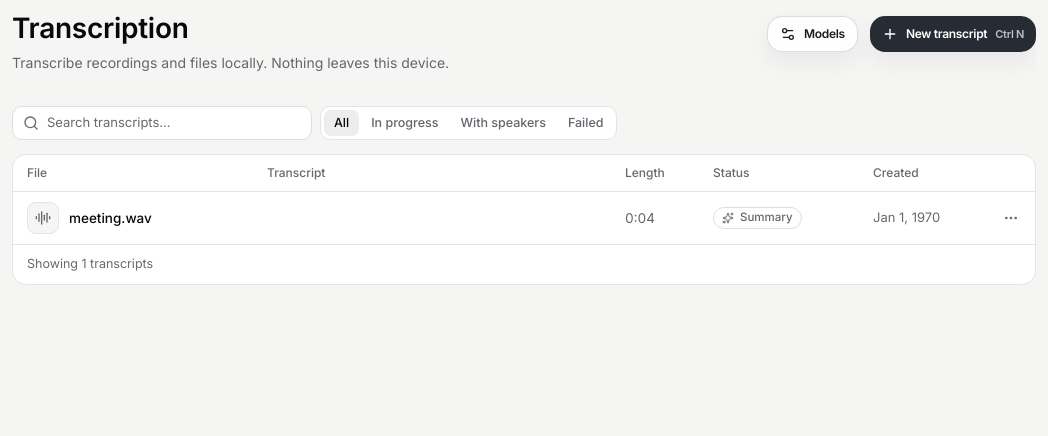
it: TranscriptionPage detail route › shows standard row actions from the history menu
Expected: the text "meeting.wav" is shown, [69,208,152,228]
Press the mouse on the button named "More actions for meeting.wav": (1011, 218) [997,204,1025,232]
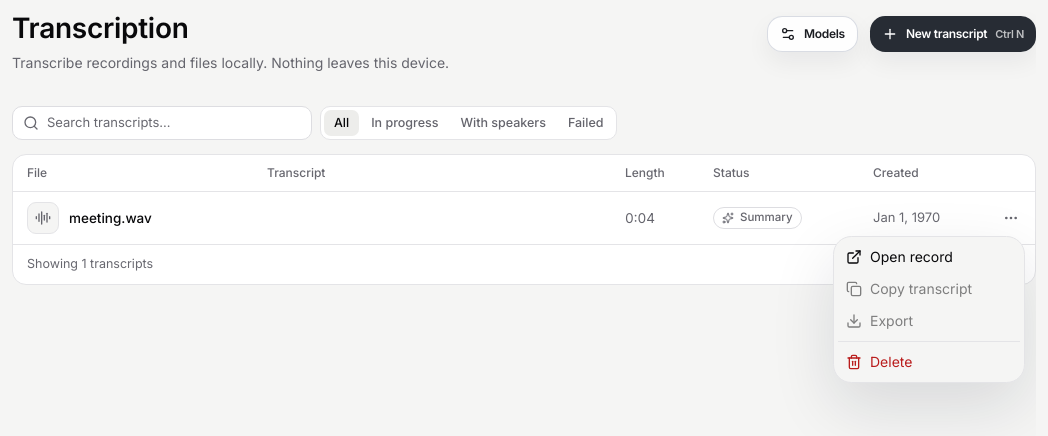
Now the menu item "Open record" is shown, box [846,248,953,265]
Now the menu item "Copy transcript" is shown, box [846,280,972,297]
Now the menu item "Export" is shown, box [846,312,913,329]
